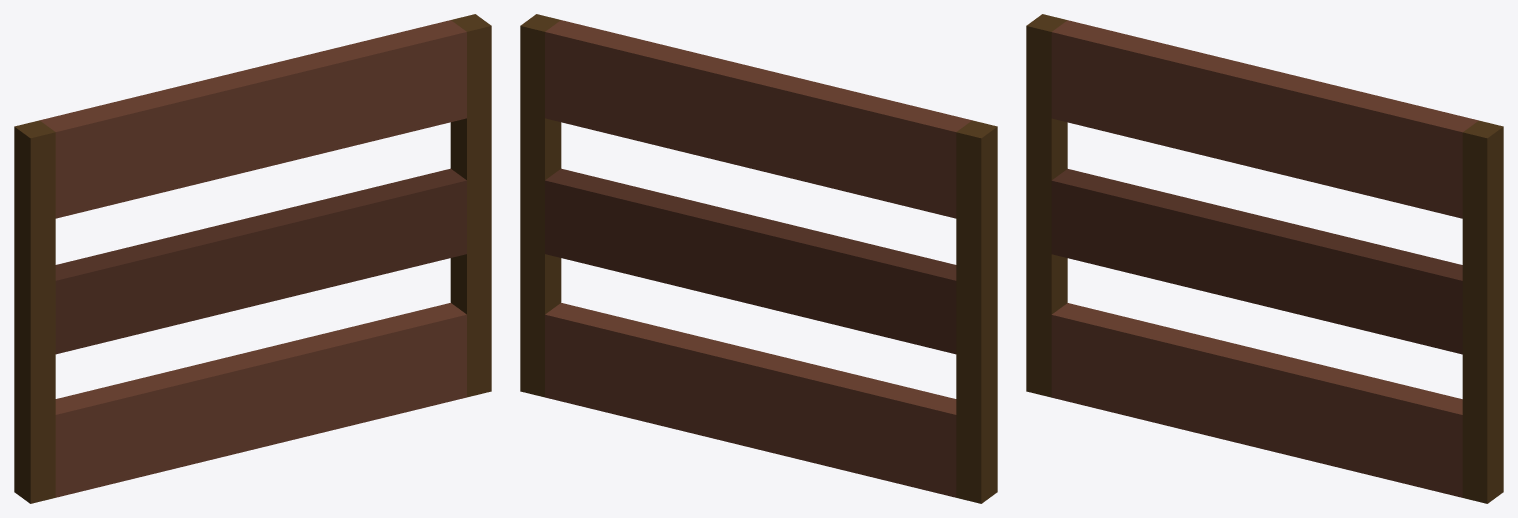
File: gate-open.glb
3 renders of one model, left to right at view 1: azimuth 30°, elevation 25°; view 2: azimuth 150°, elevation 25°; view 3: azimuth 330°, elevation 25°, orthographic.
Visible parts, largest first — view 1: gate; view 2: gate; view 3: gate.
Part boxes in pixels (<box>): gate: <box>14,14,491,503</box>; gate: <box>520,14,997,503</box>; gate: <box>1026,14,1503,503</box>.
Size of what is drawn, in the model's own units: 1.96 by 1.49 by 0.1196.
1 material, 1 textured.
